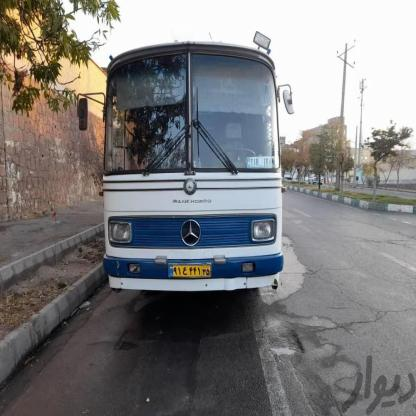Bus: (96, 34, 286, 298)
